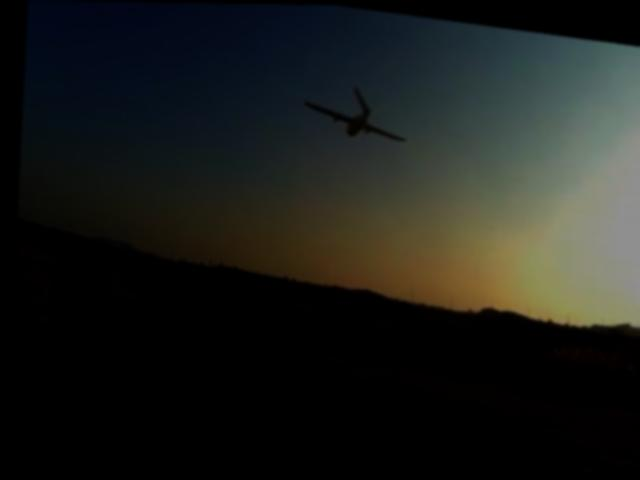uav: (279, 68, 422, 165)
